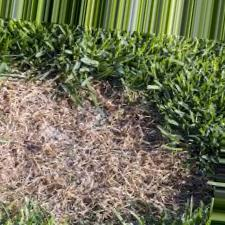patch: (5, 90, 85, 204), (79, 115, 140, 203), (131, 143, 164, 193)
